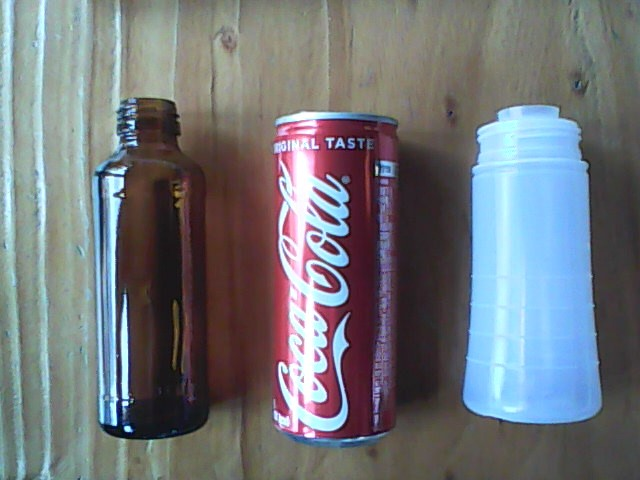Can: (267, 105, 404, 450)
Glass: (88, 93, 213, 443)
Plastic: (453, 98, 608, 426)
